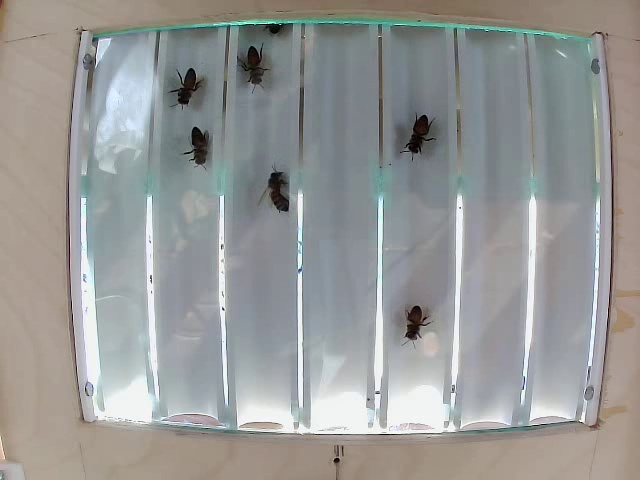bee: (396, 108, 438, 173), (172, 68, 216, 114), (263, 169, 298, 226), (241, 42, 274, 99), (183, 125, 223, 168), (398, 308, 428, 348)
